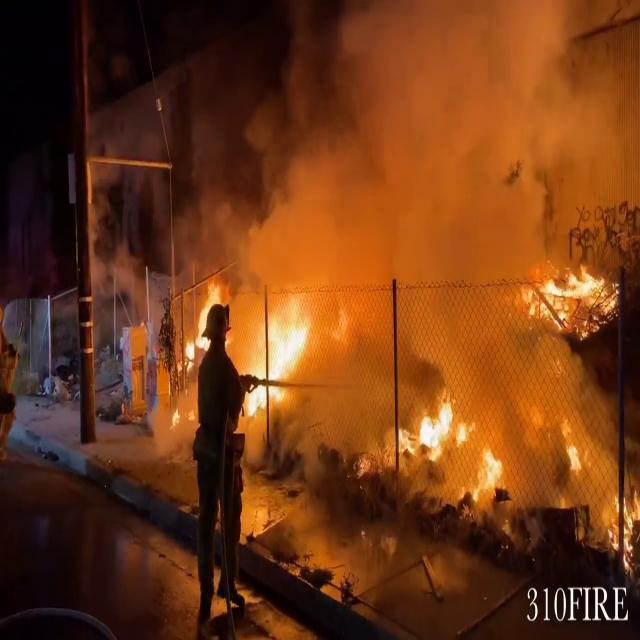Fire: (398, 384, 514, 500), (242, 285, 318, 421), (523, 255, 617, 337), (184, 276, 218, 372)
Smoke: (187, 1, 633, 424)
